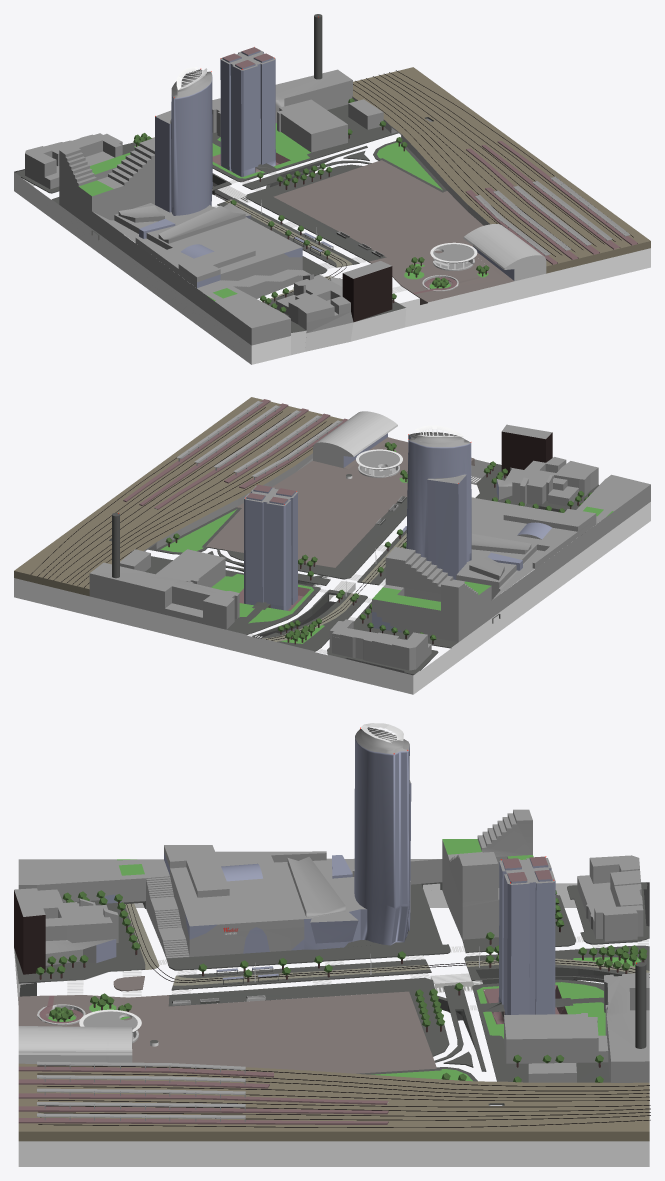
Rendered from place_de_milan.glb.
3 renders of one model, top to bottom at view 1: azimuth 30°, elevation 25°; view 2: azimuth 150°, elevation 25°; view 3: azimuth 270°, elevation 25°, orthographic. The views are drawn at different scales.
Visible parts, largest first — view 1: quartier, polygone_implantation, Hall_Gare, Cube.005; view 2: quartier, polygone_implantation, Cube.005, Hall_Gare, Extension_Gare; view 3: quartier, polygone_implantation, Cube.005, Hall_Gare, Extension_Gare, Route_TGV_3, Route_Train_6, Route_Train_8, Route_Train_7, Route_Train_10, Route_TGV_4, Route_TGV_1.
Part boxes in pixels (box(x1,y1,x2,y2)): quartier: box(14, 14, 650, 364); polygone_implantation: box(273, 160, 483, 257); Hall_Gare: box(472, 230, 546, 282); Cube.005: box(475, 176, 630, 255); quartier: box(14, 397, 650, 694); polygone_implantation: box(206, 461, 401, 567); Cube.005: box(177, 401, 342, 479); Hall_Gare: box(325, 411, 397, 462); Extension_Gare: box(313, 436, 362, 469); quartier: box(14, 723, 649, 1166); polygone_implantation: box(132, 991, 436, 1073); Cube.005: box(37, 1061, 245, 1121); Hall_Gare: box(18, 1026, 109, 1063); Extension_Gare: box(109, 1027, 132, 1062); Route_TGV_3: box(37, 1073, 649, 1091); Route_Train_6: box(38, 1100, 650, 1107); Route_Train_8: box(38, 1112, 650, 1116); Route_Train_7: box(38, 1105, 650, 1111); Route_Train_10: box(38, 1120, 650, 1127); Route_TGV_4: box(37, 1086, 649, 1097); Route_TGV_1: box(37, 1065, 649, 1086).
Size of the model in its own units: 343 by 140 by 354.
Materials: 25 (3 with a texture image).
